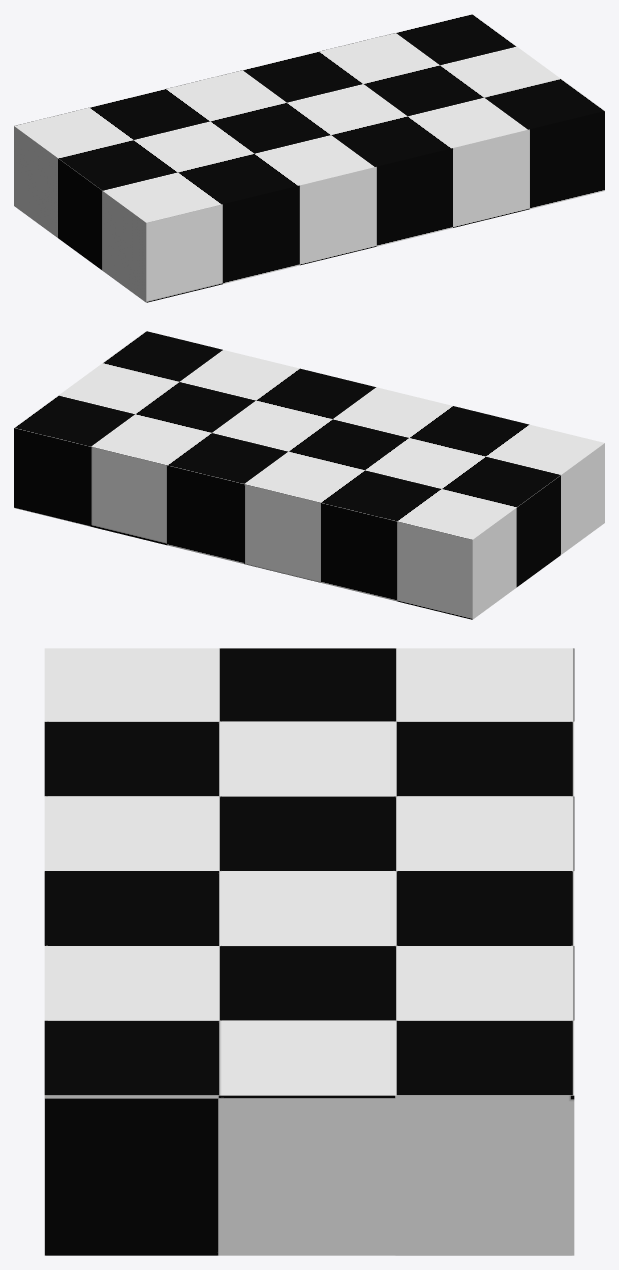
The model's file is FinishLine.fbx.
3 views of the same model, one above another, from view 1: azimuth 30°, elevation 25°; view 2: azimuth 150°, elevation 25°; view 3: azimuth 270°, elevation 25° (orthographic). The views are drawn at different scales.
Visible parts, largest first — view 1: Cube; view 2: Cube; view 3: Cube.
Part boxes in pixels (box(x1,y1,x2,y2)): Cube: box(14, 14, 604, 302); Cube: box(14, 331, 604, 619); Cube: box(44, 648, 574, 1255).
Bounding box in the file's own units: 1200 × 200 × 600.
